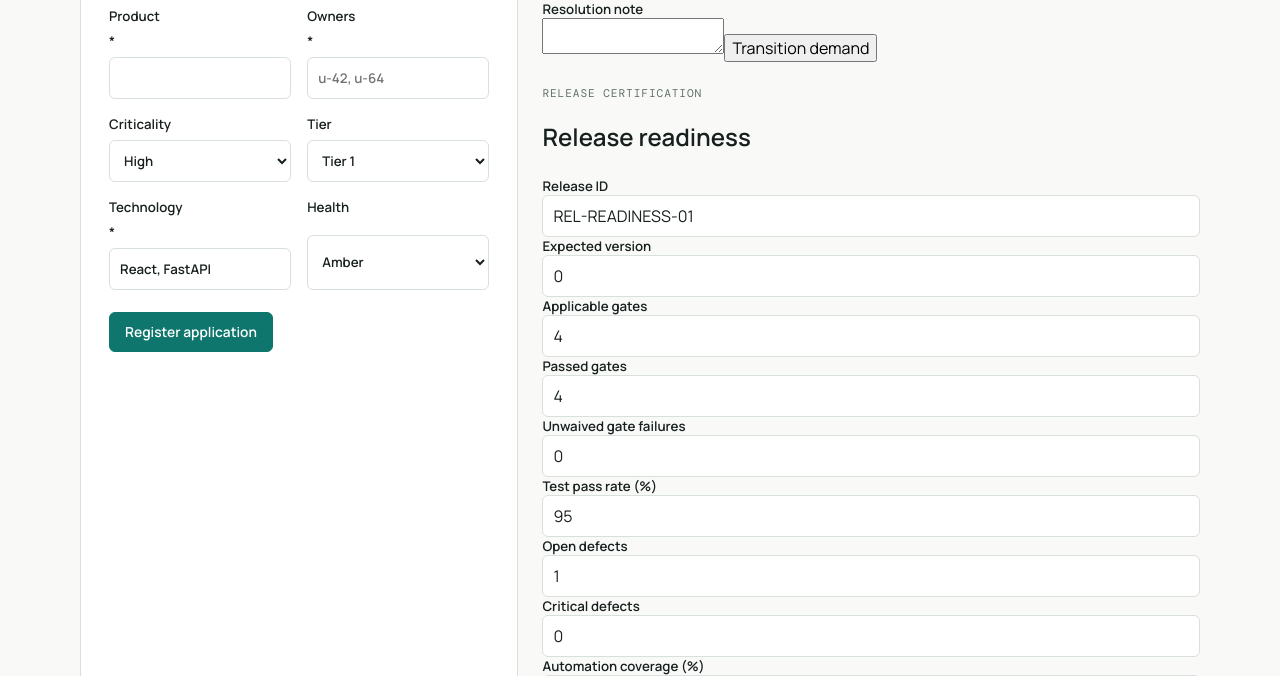
App › reports missing required form values before making a create request
The image size is (1280, 676).
(page scrolled)
Click the button "Register application": x=191, y=332 x1=109 y1=312 x2=273 y2=352
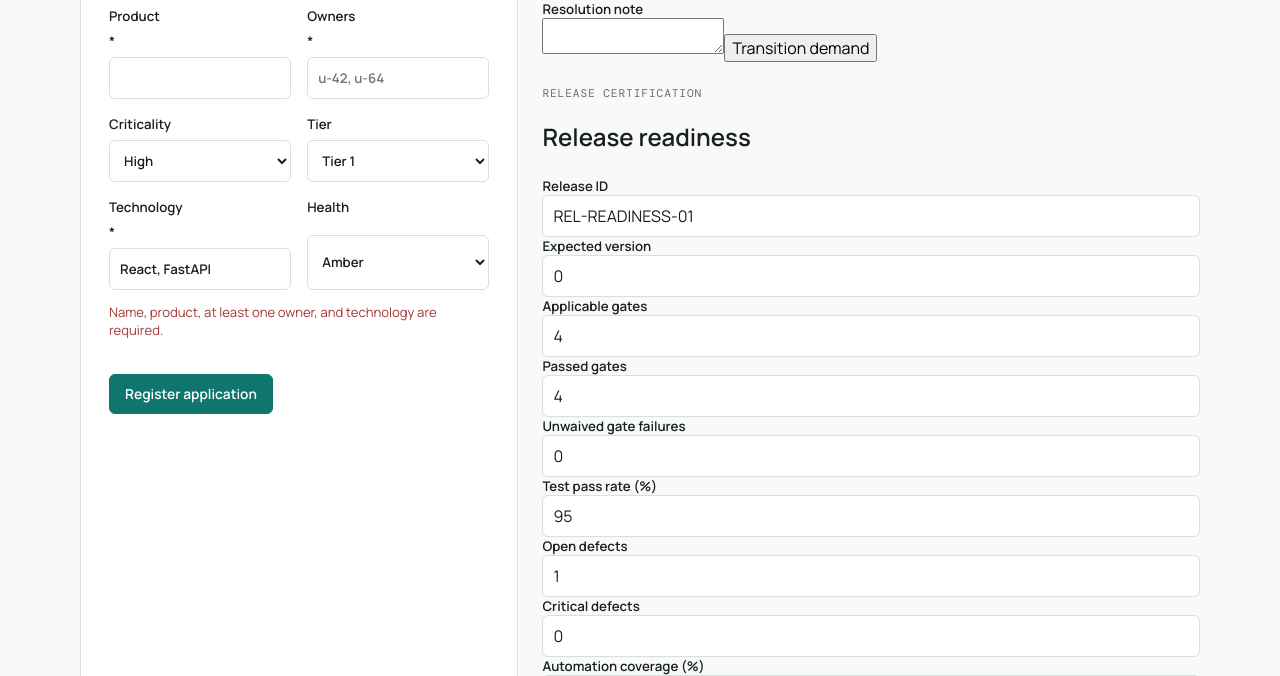
Expected: the message shows "Name, product", x1=109 y1=303 x2=437 y2=339
